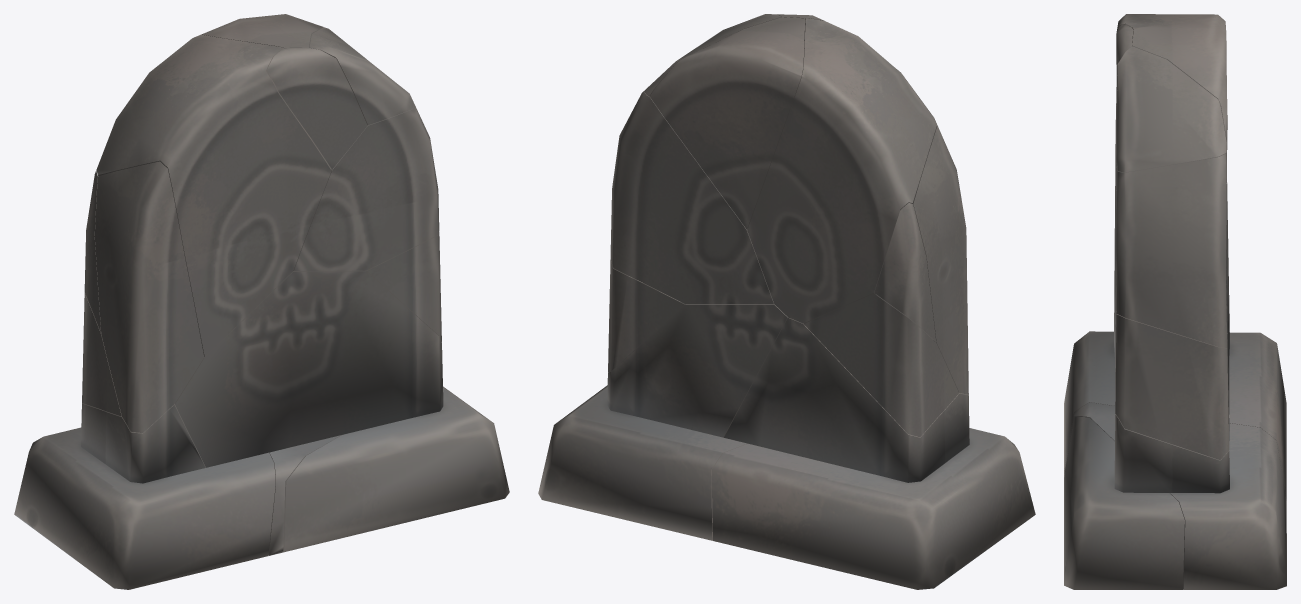
Rendered from ghost3_grave_shattered.fbx.
The picture shows the model from 3 angles, left to right: view 1: azimuth 30°, elevation 25°; view 2: azimuth 150°, elevation 25°; view 3: azimuth 270°, elevation 25°; orthographic projection.
Visible parts, largest first — view 1: grave_low_shattered_cell.009, grave_low_shattered_cell.011, grave_low_shattered_cell.004, grave_low_shattered_cell.002, grave_low_shattered_cell.015, grave_low_shattered_cell.003, grave_low_shattered_cell, grave_low_shattered_cell.010, grave_low_shattered_cell.012, grave_low_shattered_cell.005, grave_low_shattered_cell.008, grave_low_shattered_cell.014 (+2 smaller); view 2: grave_low_shattered_cell.009, grave_low_shattered_cell.004, grave_low_shattered_cell.003, grave_low_shattered_cell.010, grave_low_shattered_cell.008, grave_low_shattered_cell.001, grave_low_shattered_cell.011, grave_low_shattered_cell.014, grave_low_shattered_cell.015, grave_low_shattered_cell.007, grave_low_shattered_cell.012, grave_low_shattered_cell.005; view 3: grave_low_shattered_cell.003, grave_low_shattered_cell.002, grave_low_shattered_cell.001, grave_low_shattered_cell.012, grave_low_shattered_cell.005, grave_low_shattered_cell.004, grave_low_shattered_cell.011, grave_low_shattered_cell.008, grave_low_shattered_cell.009, grave_low_shattered_cell, grave_low_shattered_cell.010, grave_low_shattered_cell.015.
Part boxes in pixels (box(x1,y1,x2,y2)): grave_low_shattered_cell.009: box(96, 34, 331, 356); grave_low_shattered_cell.011: box(175, 270, 443, 467); grave_low_shattered_cell.004: box(14, 427, 275, 589); grave_low_shattered_cell.002: box(284, 387, 509, 552); grave_low_shattered_cell.015: box(94, 161, 204, 432); grave_low_shattered_cell.003: box(293, 104, 439, 270); grave_low_shattered_cell: box(267, 47, 367, 169); grave_low_shattered_cell.010: box(81, 403, 205, 483); grave_low_shattered_cell.012: box(363, 232, 441, 341); grave_low_shattered_cell.005: box(309, 27, 414, 125); grave_low_shattered_cell.008: box(201, 14, 323, 48); grave_low_shattered_cell.014: box(82, 293, 121, 416); grave_low_shattered_cell.009: box(747, 18, 937, 323); grave_low_shattered_cell.004: box(712, 428, 1035, 589); grave_low_shattered_cell.003: box(610, 91, 773, 303); grave_low_shattered_cell.010: box(724, 318, 969, 482); grave_low_shattered_cell.008: box(650, 17, 805, 229); grave_low_shattered_cell.001: box(538, 387, 747, 540); grave_low_shattered_cell.011: box(607, 304, 788, 437); grave_low_shattered_cell.014: box(804, 293, 958, 437); grave_low_shattered_cell.015: box(913, 126, 968, 394); grave_low_shattered_cell.007: box(874, 203, 936, 341); grave_low_shattered_cell.012: box(608, 260, 684, 371); grave_low_shattered_cell.005: box(644, 14, 781, 96); grave_low_shattered_cell.003: box(1116, 152, 1227, 347); grave_low_shattered_cell.002: box(1064, 416, 1184, 589); grave_low_shattered_cell.001: box(1064, 402, 1286, 589); grave_low_shattered_cell.012: box(1115, 311, 1229, 460); grave_low_shattered_cell.005: box(1116, 46, 1226, 172); grave_low_shattered_cell.004: box(1064, 331, 1286, 500); grave_low_shattered_cell.011: box(1114, 258, 1229, 493); grave_low_shattered_cell.008: box(1132, 17, 1227, 158); grave_low_shattered_cell.009: box(1115, 14, 1226, 269); grave_low_shattered_cell: box(1116, 24, 1133, 105); grave_low_shattered_cell.010: box(1114, 269, 1229, 430); grave_low_shattered_cell.015: box(1114, 87, 1116, 293).
Size of the model in its own units: 212 by 242 by 104.
